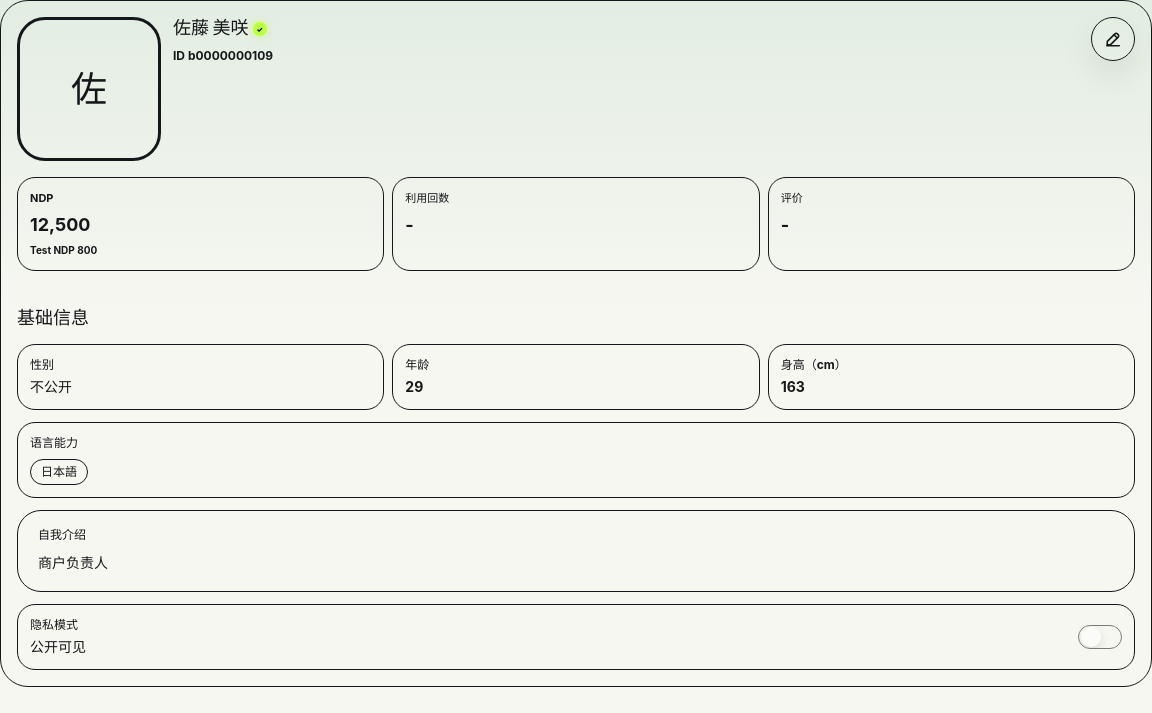
Scenario: MerchantIdentityInfoCard › anchors the edit save button to the screen bottom without an outer panel
Click the button named "编辑资料".
click(1113, 39)  # box 1091,17 -> 1135,61
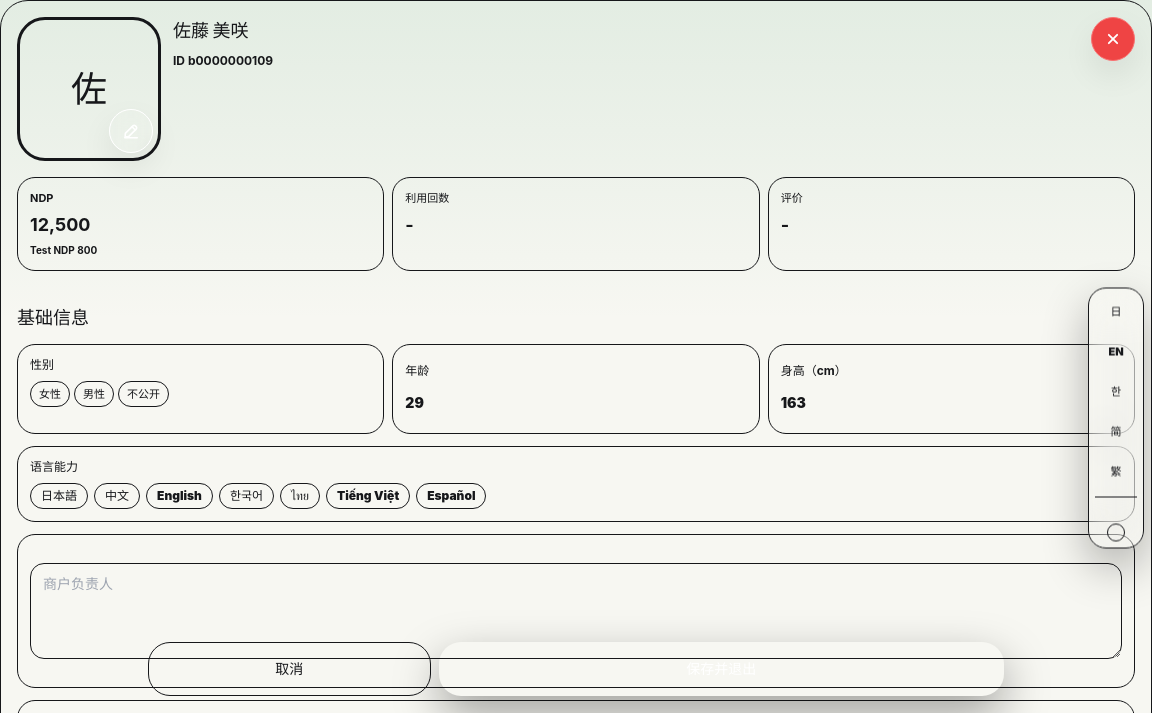
Check: the element with test id "localized-text-editor" is shown, box 17,534 -> 1135,688
Check: the text "取消" is shown
Click the button "取消".
click(289, 669)  # box 148,642 -> 431,696
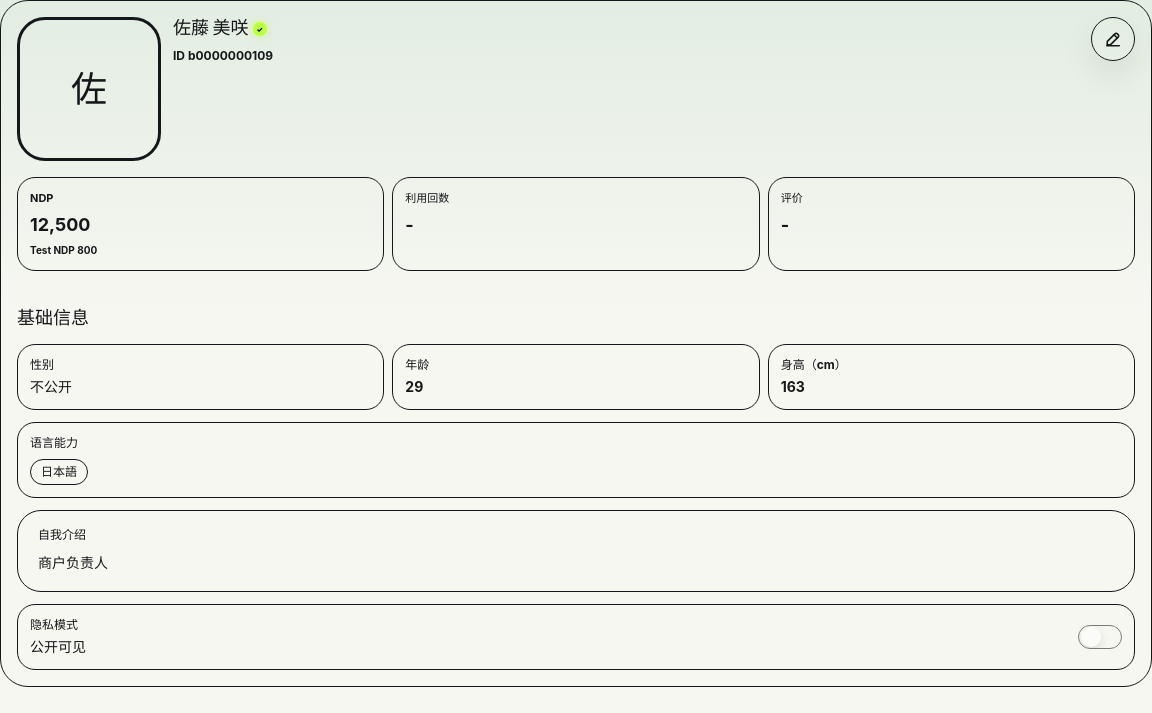
Check: the text "保存并退出" is gone
